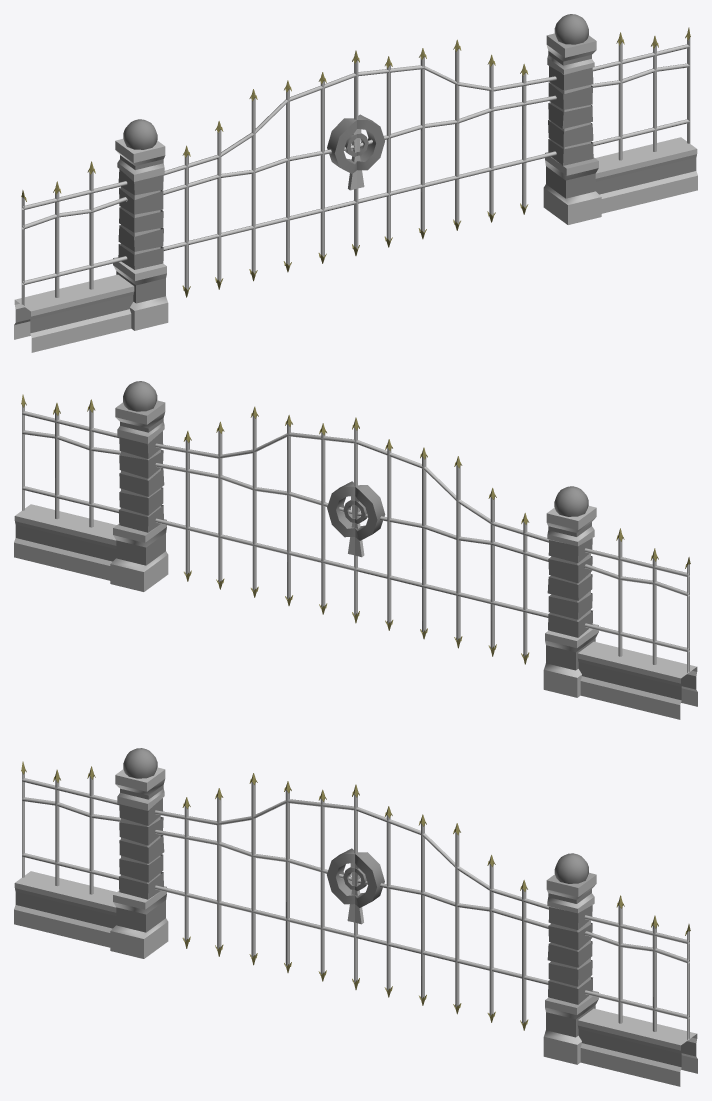
Rendered from Gate_Fancy_Mod_01 (1).fbx.
3 renders of one model, top to bottom at view 1: azimuth 30°, elevation 25°; view 2: azimuth 150°, elevation 25°; view 3: azimuth 330°, elevation 25°, orthographic.
Visible parts, largest first — view 1: GateWalls2, GateRight5, GateLeft5; view 2: GateWalls2, GateRight5, GateLeft5; view 3: GateWalls2, GateLeft5, GateRight5.
Boxes of the visible parts, bbox=[...] form: GateWalls2: bbox=[14, 14, 697, 352]; GateRight5: bbox=[163, 50, 357, 297]; GateLeft5: bbox=[356, 39, 556, 255]; GateWalls2: bbox=[14, 381, 697, 719]; GateRight5: bbox=[354, 417, 548, 664]; GateLeft5: bbox=[155, 406, 355, 622]; GateWalls2: bbox=[14, 748, 697, 1086]; GateLeft5: bbox=[354, 784, 548, 1030]; GateRight5: bbox=[154, 773, 355, 989].
Size of the model in its own units: 10 by 3.08 by 0.6284.
